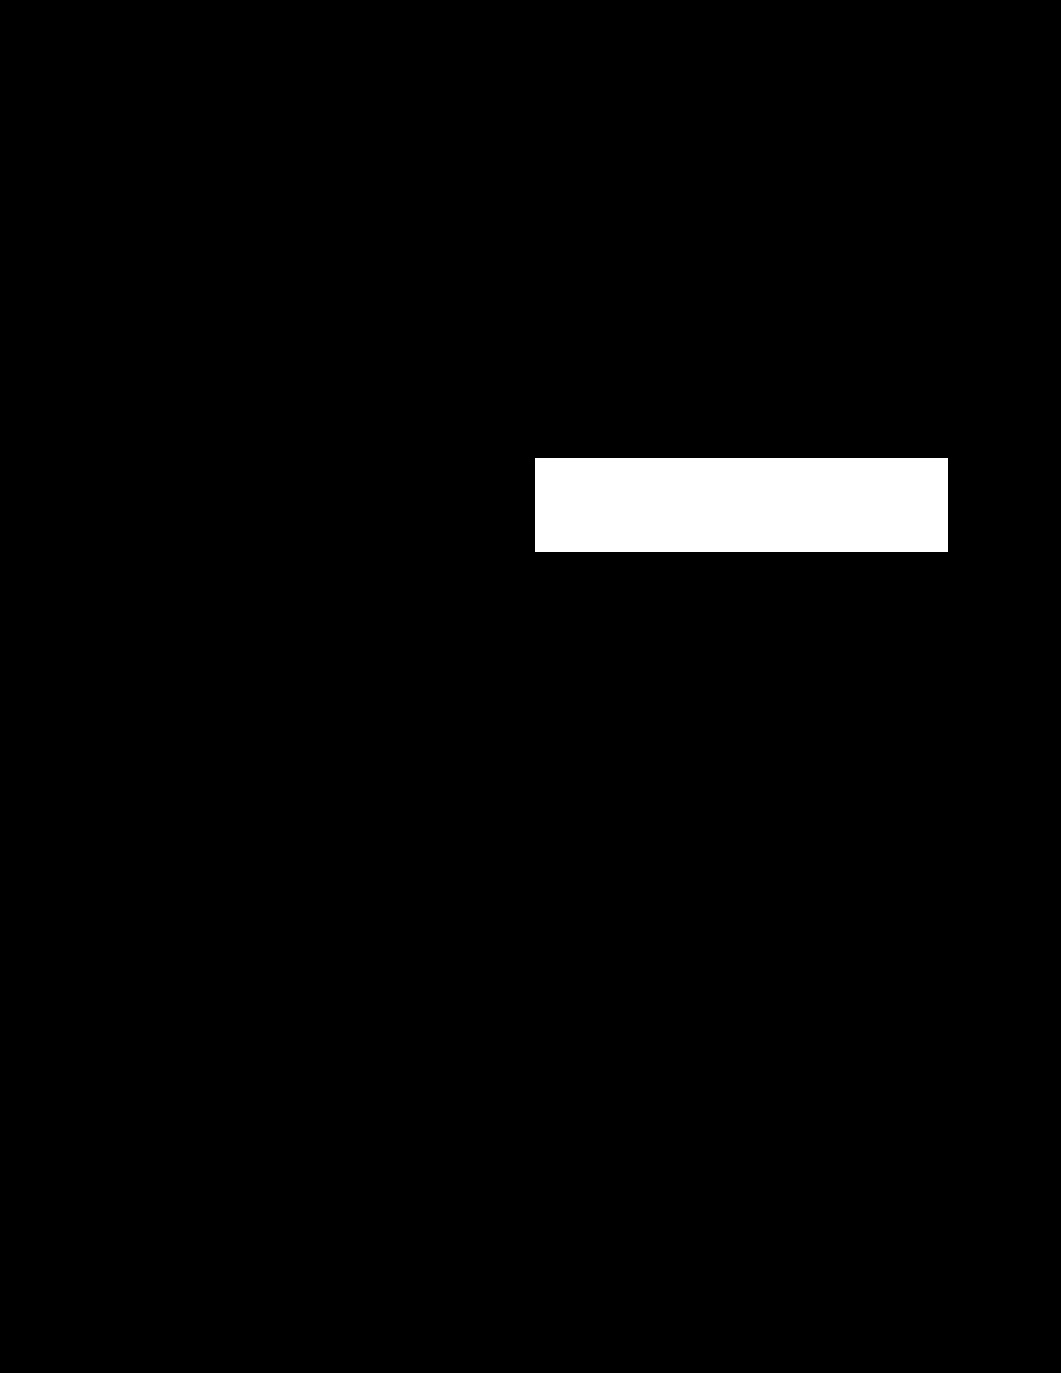table: (535, 458, 947, 551)
